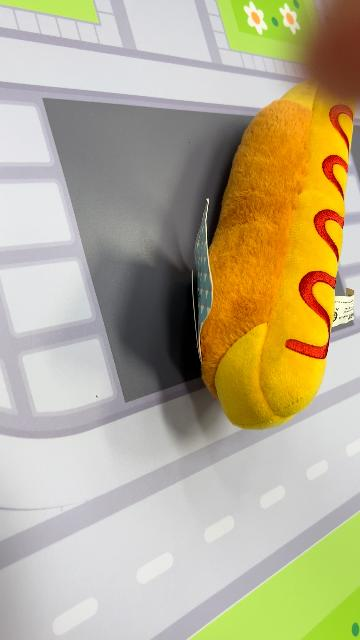hotdog: (196, 78, 356, 430)
